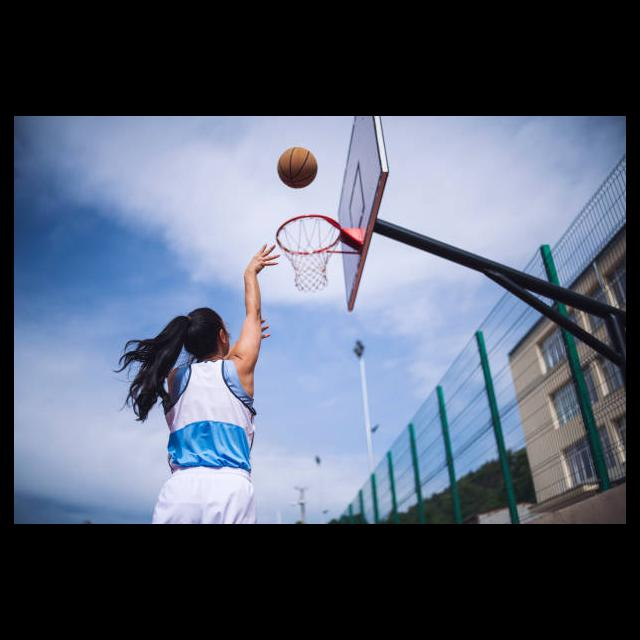basketball: (274, 146, 319, 189)
hoop: (276, 211, 339, 293)
